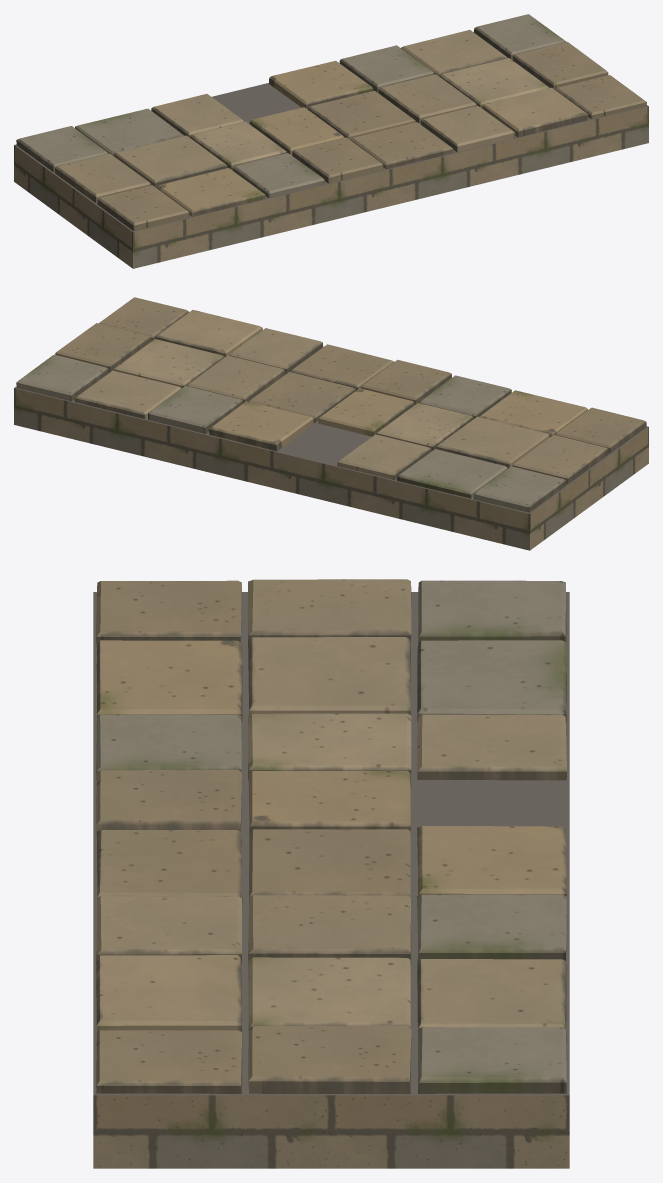
Rendered from Stone_Platform_5m.glb.
3 views of the same model, one above another, from view 1: azimuth 30°, elevation 25°; view 2: azimuth 150°, elevation 25°; view 3: azimuth 270°, elevation 25° (orthographic). The views are drawn at different scales.
Parts seen in each view (by area): view 1: Stone_Platform_5m; view 2: Stone_Platform_5m; view 3: Stone_Platform_5m.
Boxes of the visible parts, x1,y1,x2,y2 form: Stone_Platform_5m: (14, 14, 648, 268); Stone_Platform_5m: (14, 297, 648, 550); Stone_Platform_5m: (93, 579, 569, 1168).
Bounding box in the file's own units: 5 × 0.4139 × 2.
2 materials, 1 textured.
